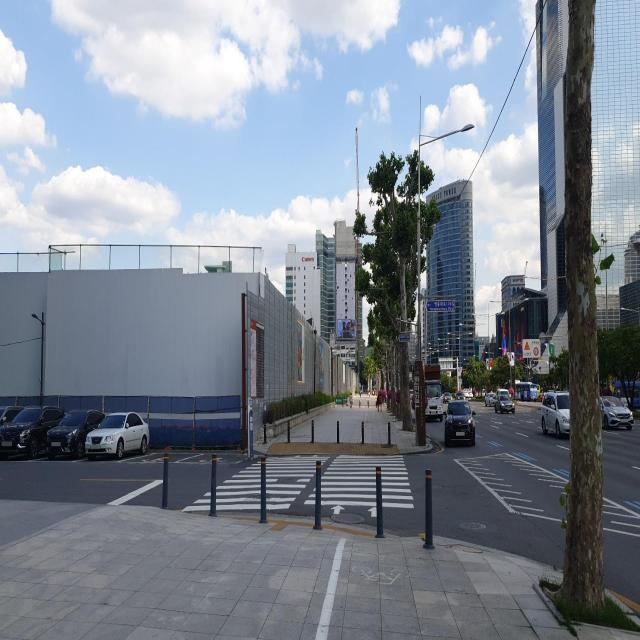횡단보도: (180, 452, 416, 519)
